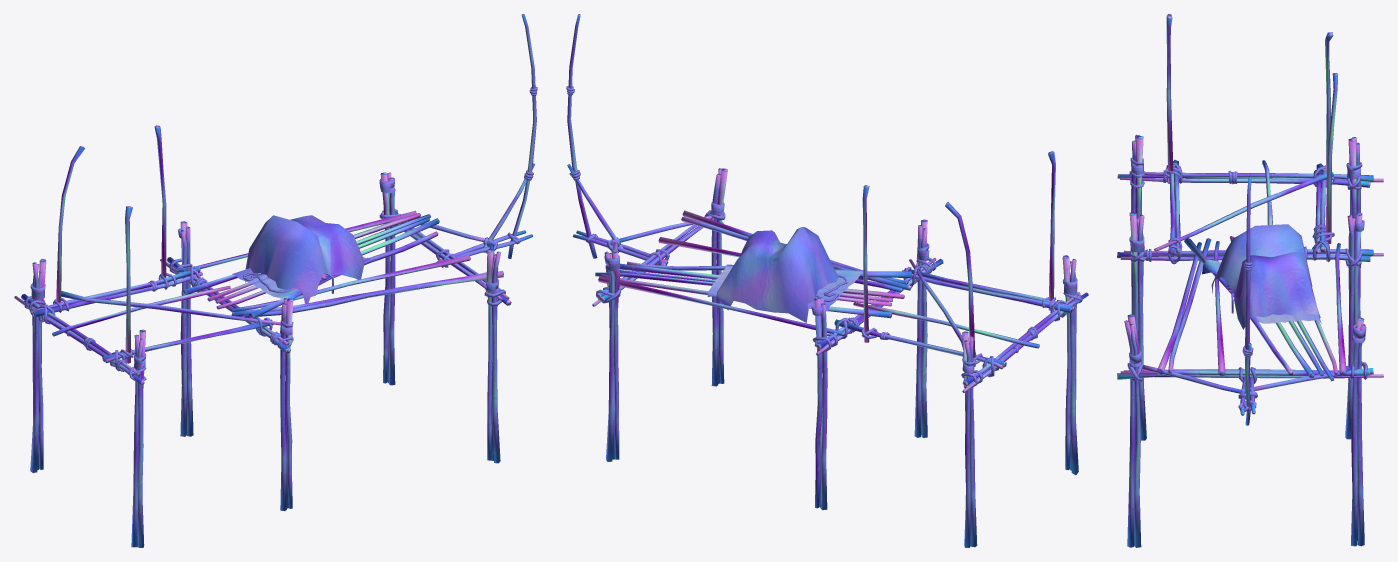
Rendered from constructionsite_new.FBX.
3 views of the same model, side by side, from view 1: azimuth 30°, elevation 25°; view 2: azimuth 150°, elevation 25°; view 3: azimuth 270°, elevation 25° (orthographic). The views are drawn at different scales.
Visible parts, largest first — view 1: House_base_lod0; view 2: House_base_lod0; view 3: House_base_lod0.
Part boxes in pixels (left/top/right/bottom): House_base_lod0: left=14, top=14, right=537, bottom=547; House_base_lod0: left=566, top=14, right=1088, bottom=547; House_base_lod0: left=1117, top=14, right=1383, bottom=547.
Size of the model in its own units: 832 by 378 by 646.
